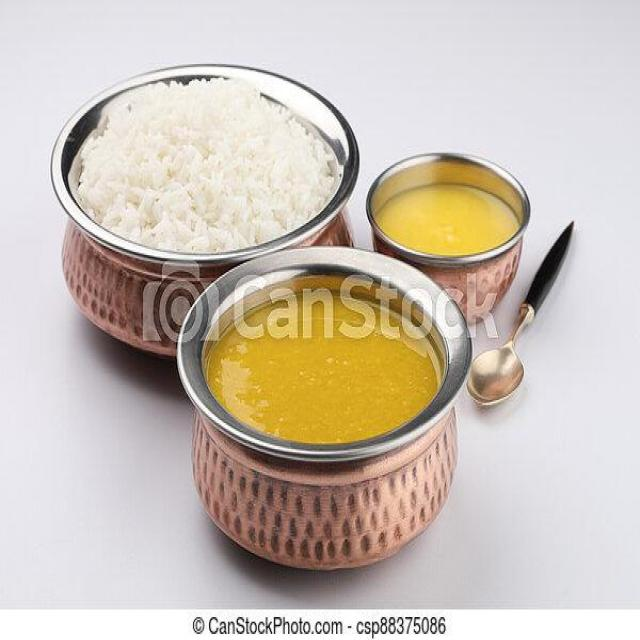dal: (208, 288, 442, 436), (383, 174, 517, 266)
rice: (75, 78, 343, 252)
